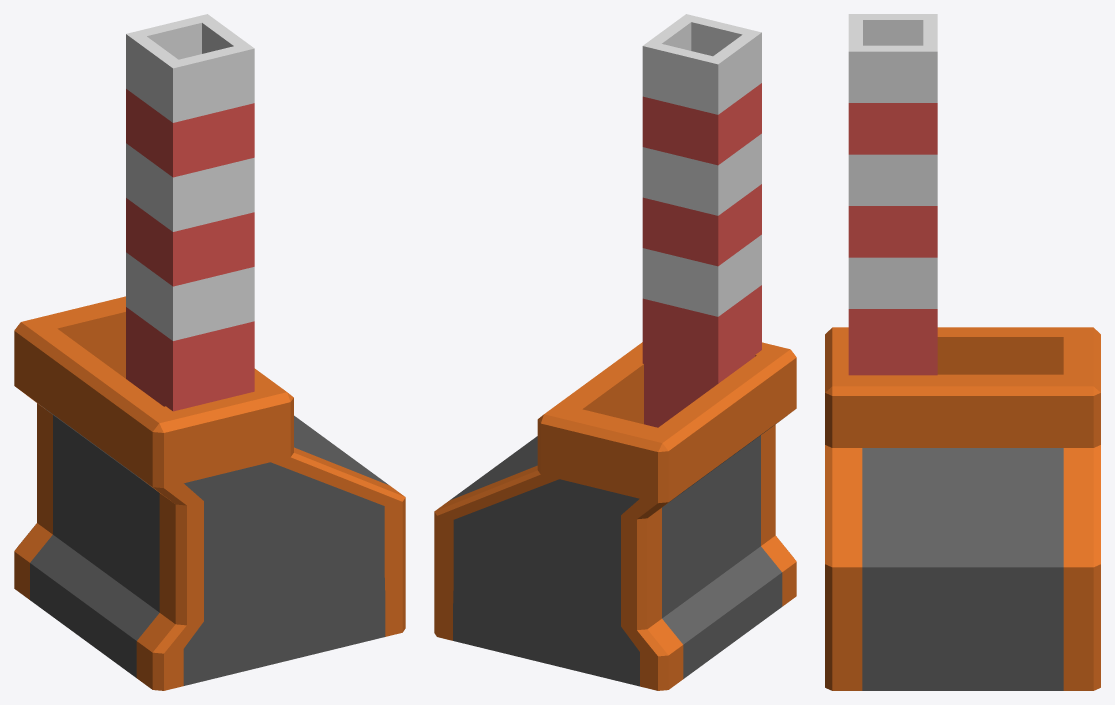
Rendered from generator.glb.
The picture shows the model from 3 angles, left to right: view 1: azimuth 30°, elevation 25°; view 2: azimuth 150°, elevation 25°; view 3: azimuth 270°, elevation 25°; orthographic projection. The views are drawn at different scales.
Parts seen in each view (by area): view 1: crasher, 立方体; view 2: crasher, 立方体; view 3: crasher, 立方体.
Part boxes in pixels (<box>): crasher: <box>14,296,405,690</box>; 立方体: <box>126,14,254,411</box>; crasher: <box>434,342,796,690</box>; 立方体: <box>642,14,761,427</box>; crasher: <box>825,327,1100,690</box>; 立方体: <box>848,14,937,375</box>.
Bounding box in the file's own units: 1 × 2.29 × 1.
